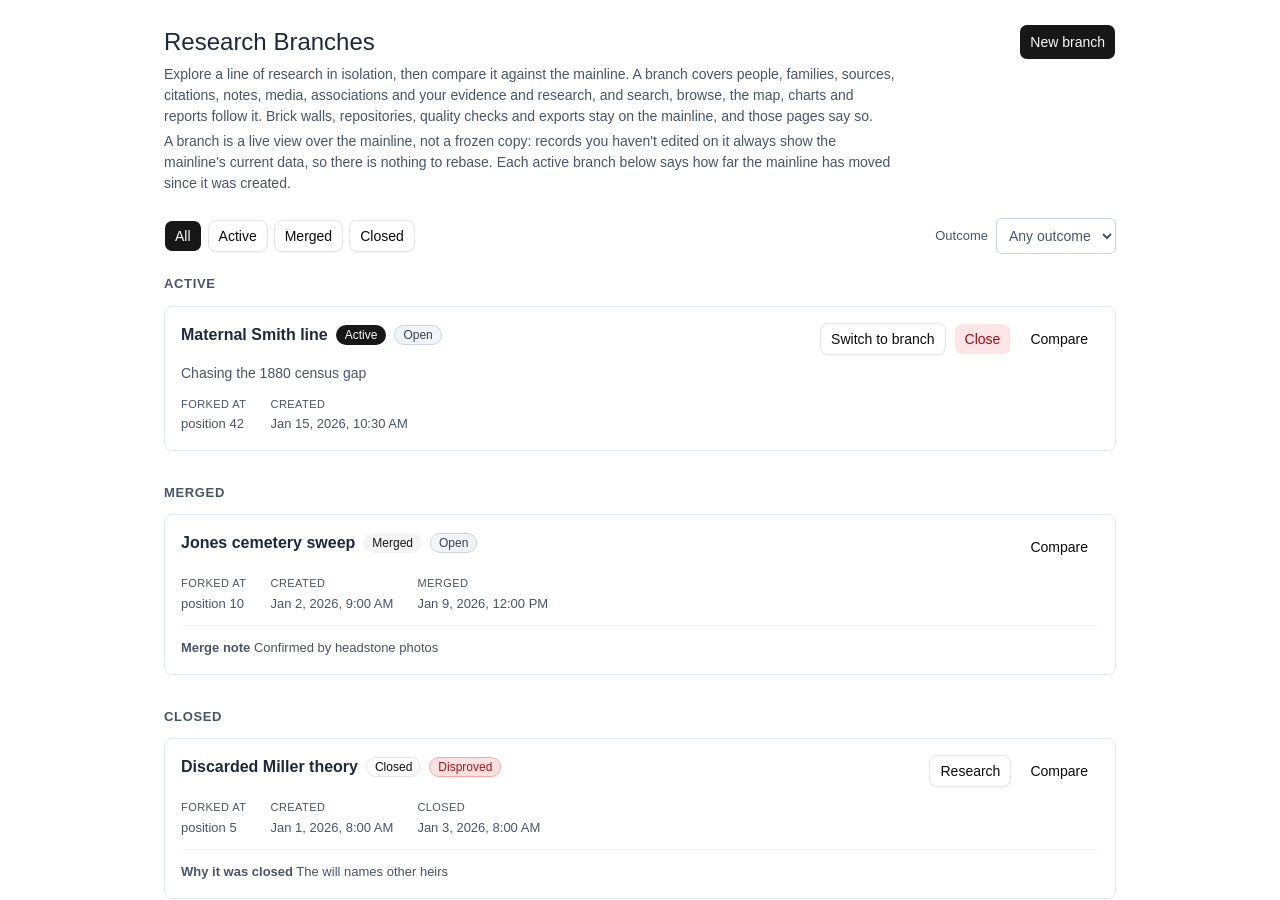
it: Branches page › explains a 409 close as already merged or closed
The width and height of the screenshot is (1280, 900).
Check: the link "Maternal Smith line" is shown, box [181,322,328,346]
Click the button "Close": (982, 338) [954,322,1011,354]
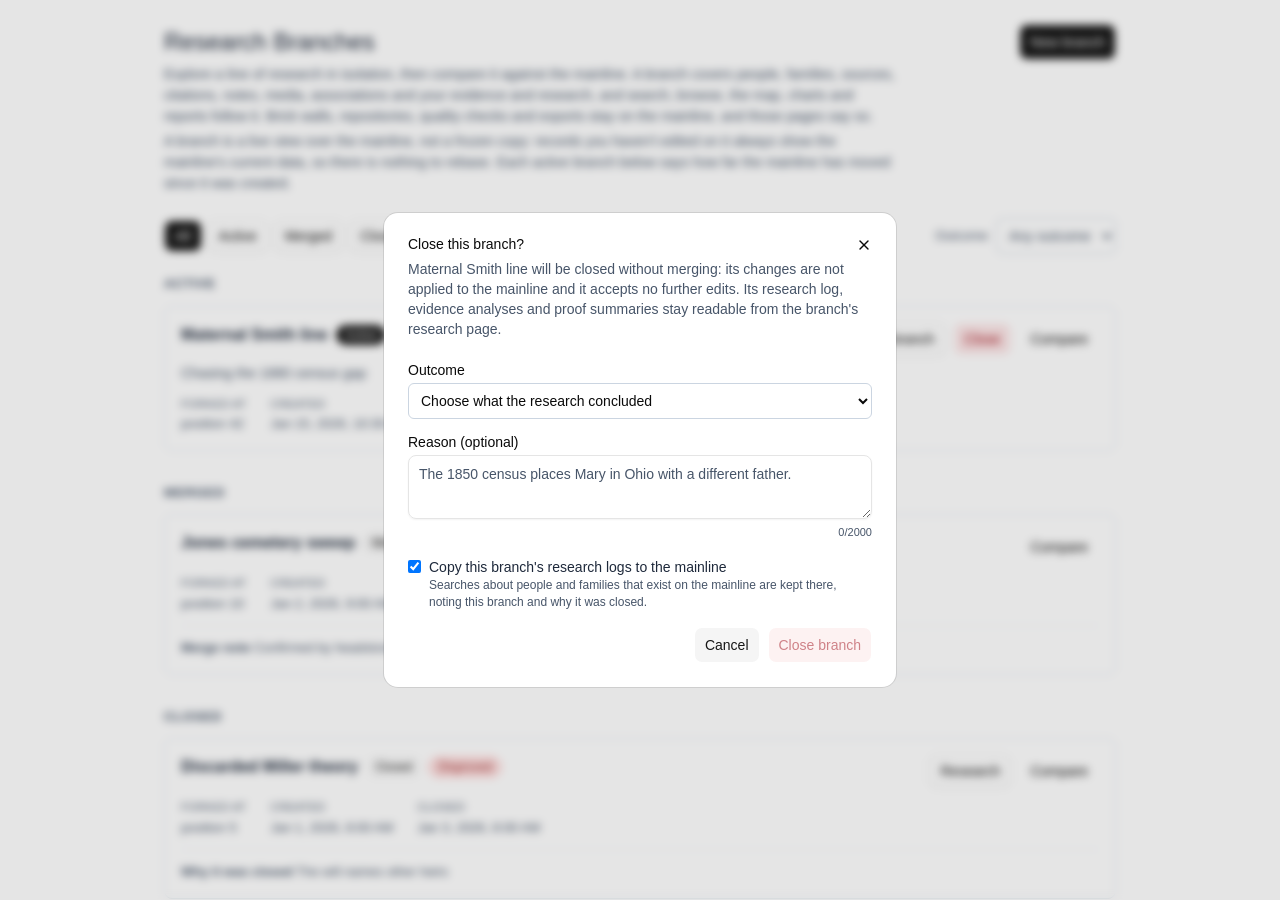
Select "Inconclusive" in the dropdown labelled "Outcome": (640, 401) [408,383,872,419]
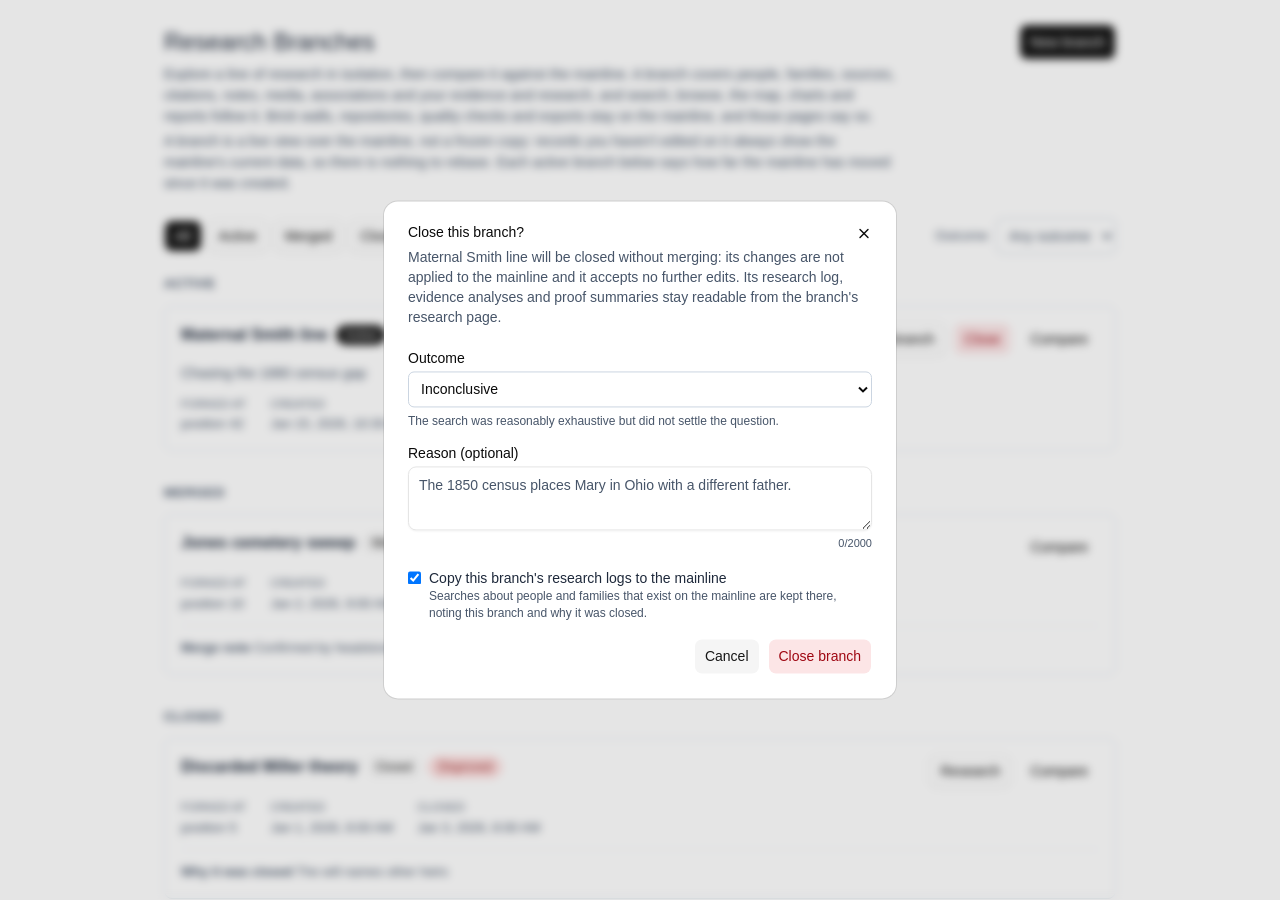
Click the button "Close branch": (820, 657) [768,639,872,675]
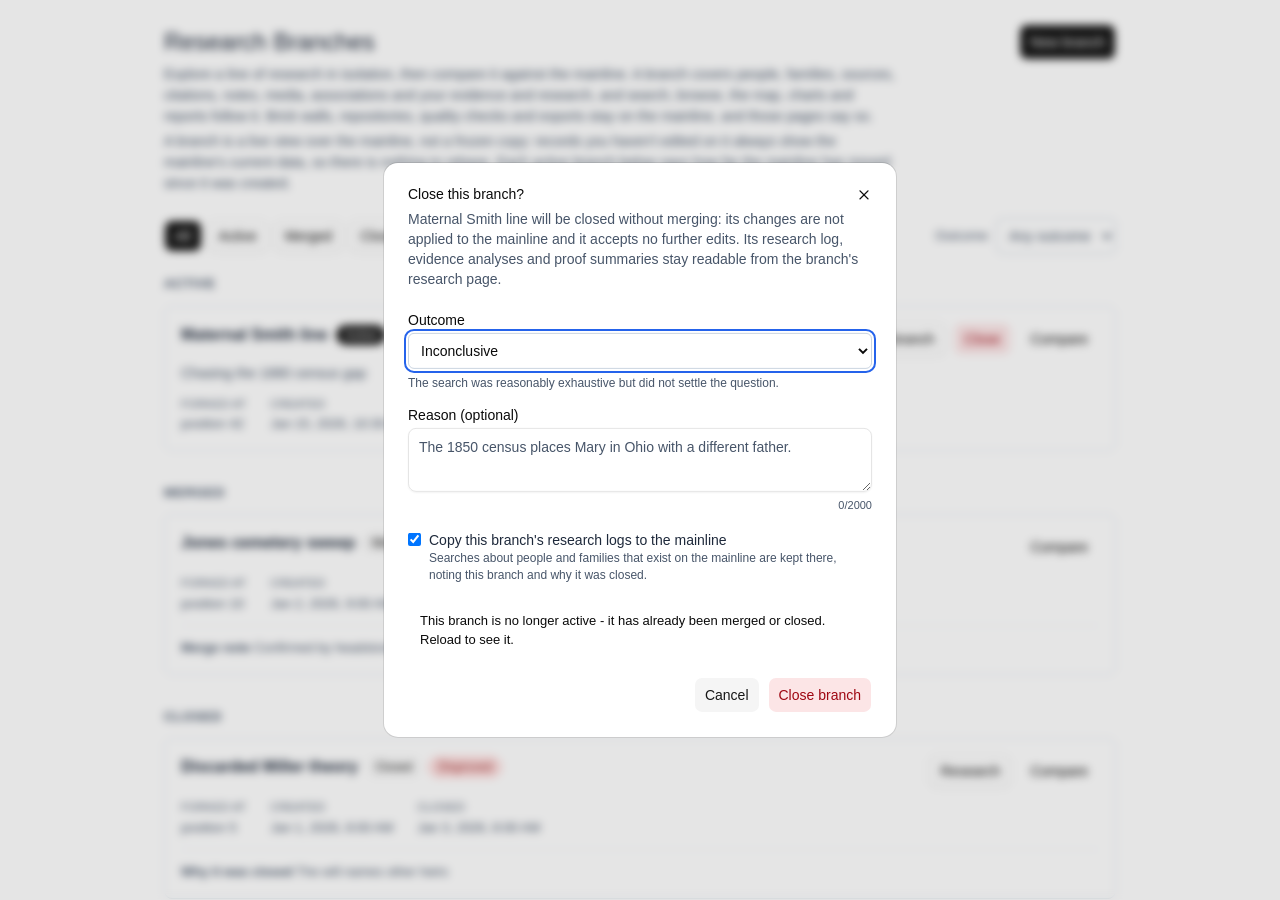
Check: the text "already been merged or closed" is shown, box [420,613,825,647]
